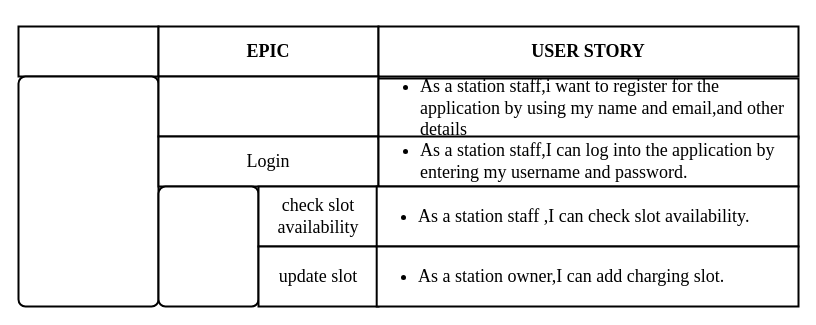
This 816x325 diagram has some shape labels left out. Each missing label, with the centre of its shape:
"MY ACCOUNT" belongs at (208,246).
"Registration" belongs at (268,106).
"STATION STAFF" belongs at (88,191).
"USER TYPE" belongs at (88,51).
